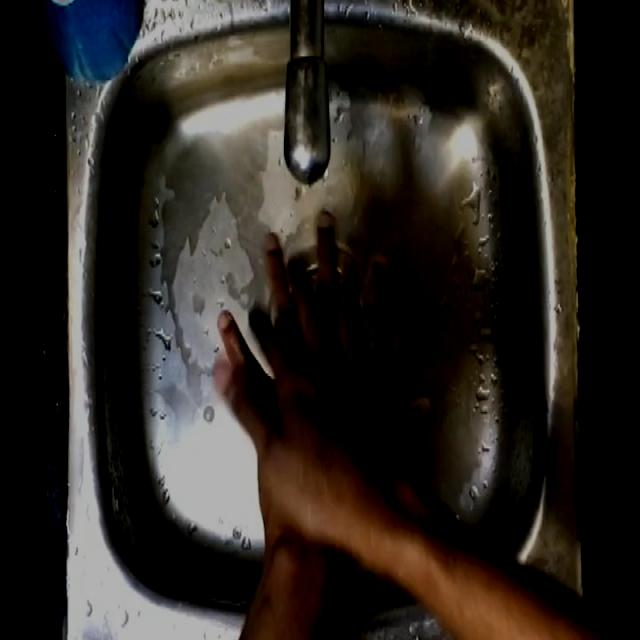step_2: (197, 203, 445, 522)
